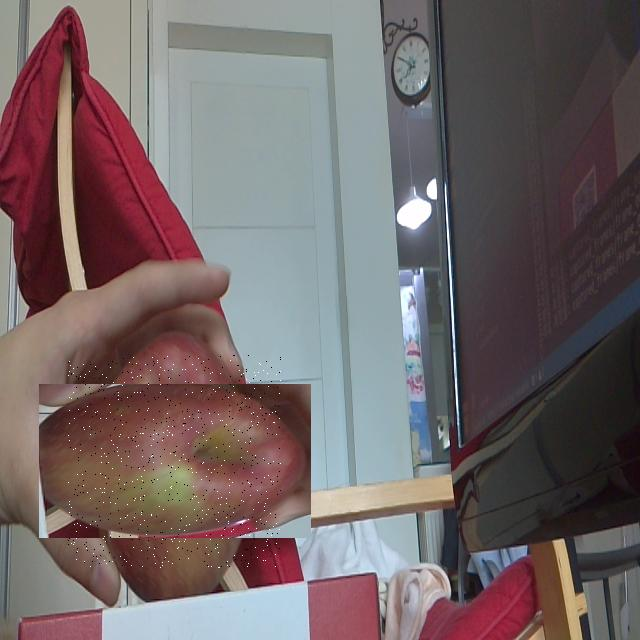apple: (68, 355, 281, 568)
